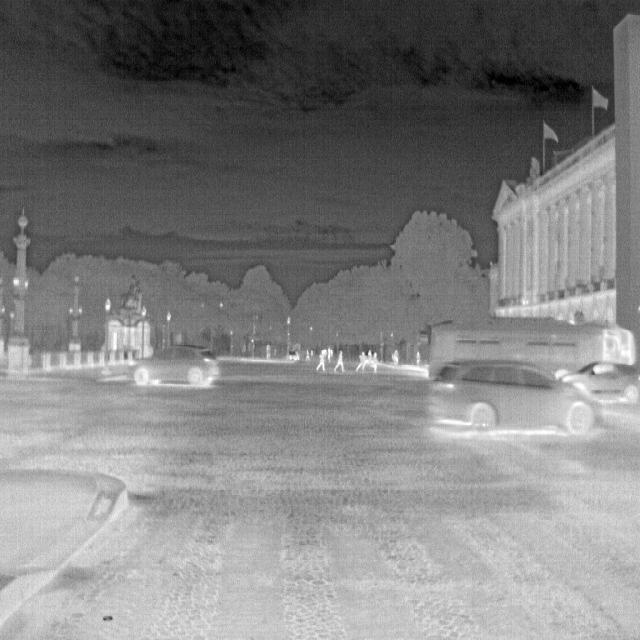Pedestrian: (332, 350, 346, 373)
Vehicle: (427, 360, 602, 440), (131, 341, 220, 390)
